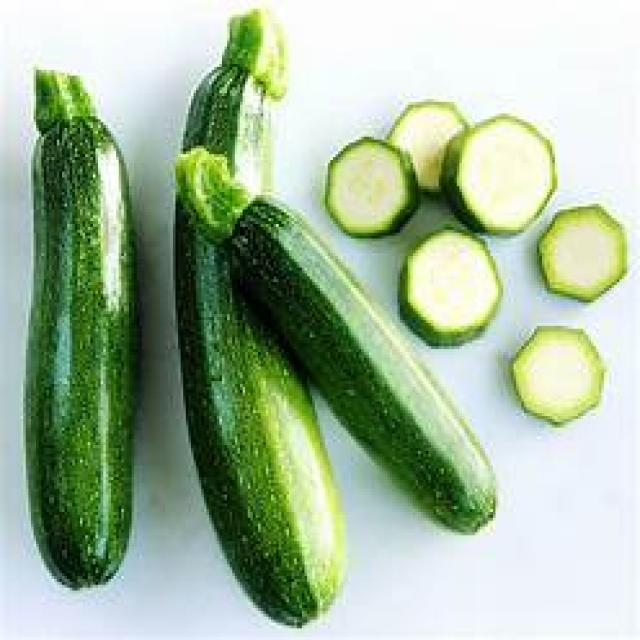Zucchini: (23, 67, 136, 592)
